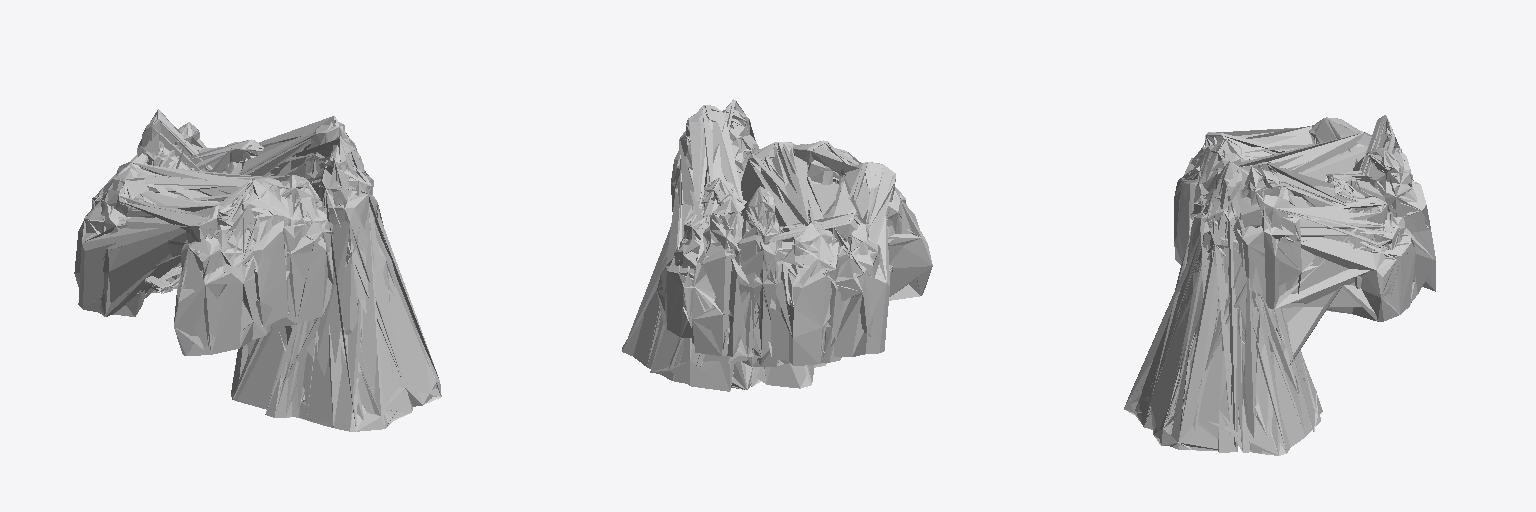
Rendered from cellReef_FeralSink_Proxy-sharedassets3.assets-630.obj.
The picture shows the model from 3 angles: view 1: azimuth 30°, elevation 25°; view 2: azimuth 150°, elevation 25°; view 3: azimuth 270°, elevation 25°; orthographic projection.
Visible parts, largest first — view 1: cellReef_FeralSink_Proxy_0, cellReef_FeralSink_Proxy_5, cellReef_FeralSink_Proxy_6, cellReef_FeralSink_Proxy_3; view 2: cellReef_FeralSink_Proxy_0, cellReef_FeralSink_Proxy_5, cellReef_FeralSink_Proxy_6, cellReef_FeralSink_Proxy_3, cellReef_FeralSink_Proxy_2; view 3: cellReef_FeralSink_Proxy_0, cellReef_FeralSink_Proxy_5, cellReef_FeralSink_Proxy_6, cellReef_FeralSink_Proxy_3.
Boxes of the visible parts, x1,y1,x2,y2 form: cellReef_FeralSink_Proxy_0: [78, 113, 441, 428]; cellReef_FeralSink_Proxy_5: [75, 117, 440, 431]; cellReef_FeralSink_Proxy_6: [80, 116, 404, 431]; cellReef_FeralSink_Proxy_3: [74, 109, 229, 316]; cellReef_FeralSink_Proxy_0: [622, 99, 932, 391]; cellReef_FeralSink_Proxy_5: [622, 100, 932, 390]; cellReef_FeralSink_Proxy_6: [623, 105, 932, 388]; cellReef_FeralSink_Proxy_3: [728, 162, 904, 366]; cellReef_FeralSink_Proxy_2: [737, 187, 783, 366]; cellReef_FeralSink_Proxy_0: [1124, 117, 1435, 455]; cellReef_FeralSink_Proxy_5: [1124, 117, 1435, 455]; cellReef_FeralSink_Proxy_6: [1125, 118, 1435, 452]; cellReef_FeralSink_Proxy_3: [1191, 115, 1403, 165].
Size of the model in its own units: 169 by 141 by 155.